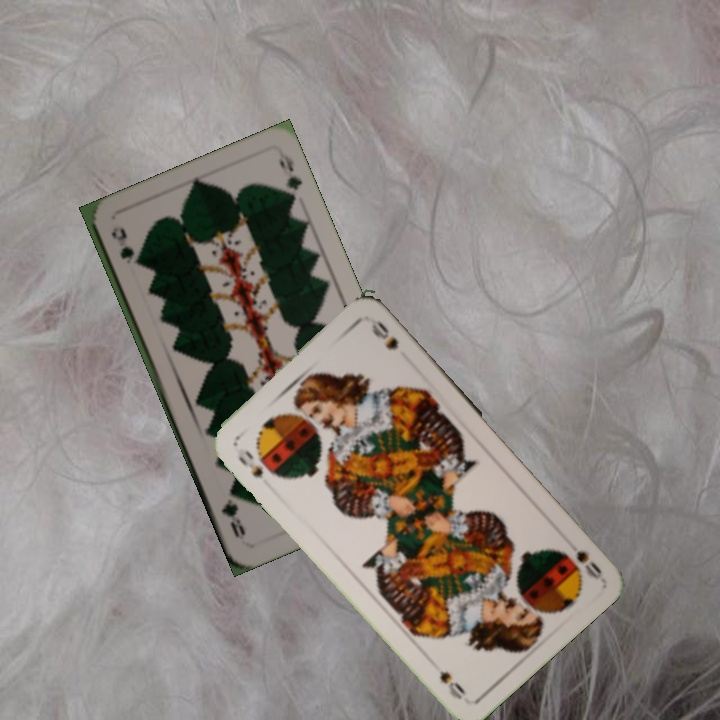G9: (107, 224, 141, 270)
SO: (572, 546, 605, 582), (234, 445, 266, 482)
